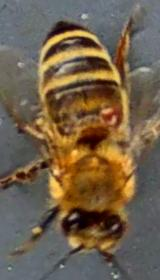varroa_mite: (89, 98, 134, 140)
